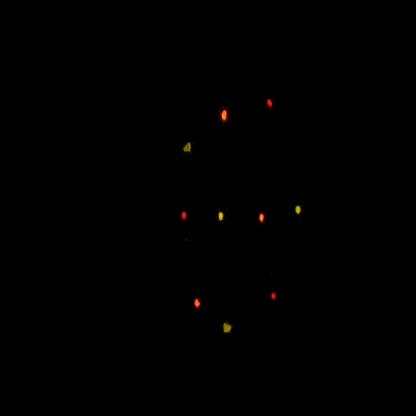PE: (290, 195, 307, 225), (215, 206, 231, 230)
PET: (262, 94, 280, 131), (175, 205, 194, 236), (265, 283, 283, 312)
PP: (219, 315, 235, 351), (181, 132, 198, 162)
PVC: (216, 100, 235, 135), (188, 290, 207, 319), (258, 204, 269, 231)
